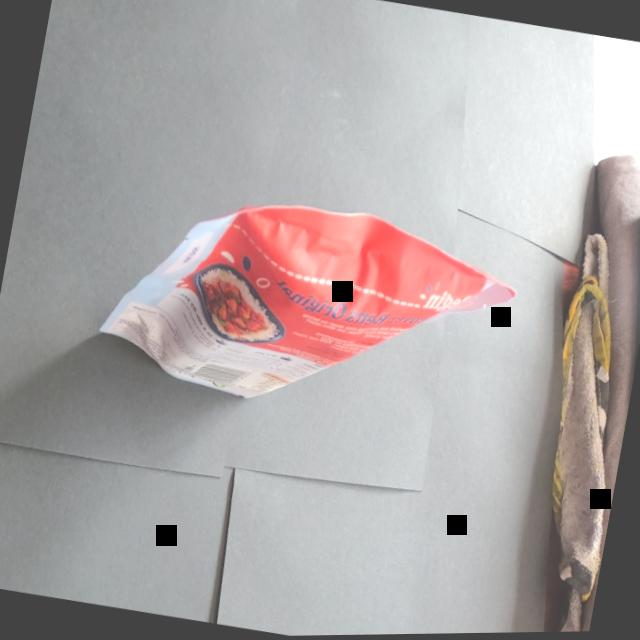Basmatirice: (62, 154, 536, 463)
